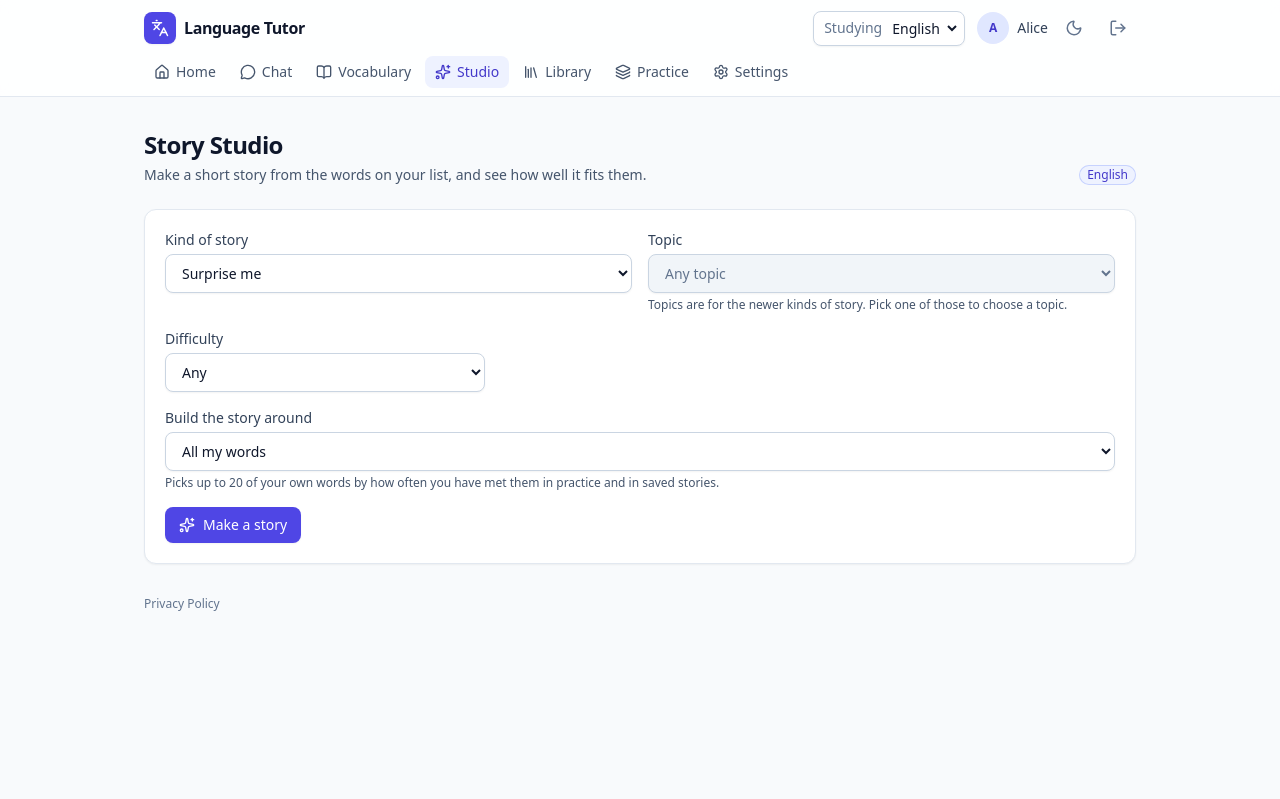
the story focus in Story Studio › sends the chosen focus and says what the story was built around
Select "Words I have met least" in the dropdown labelled "Build the story around" at [640, 452], box [165,432,1115,471]
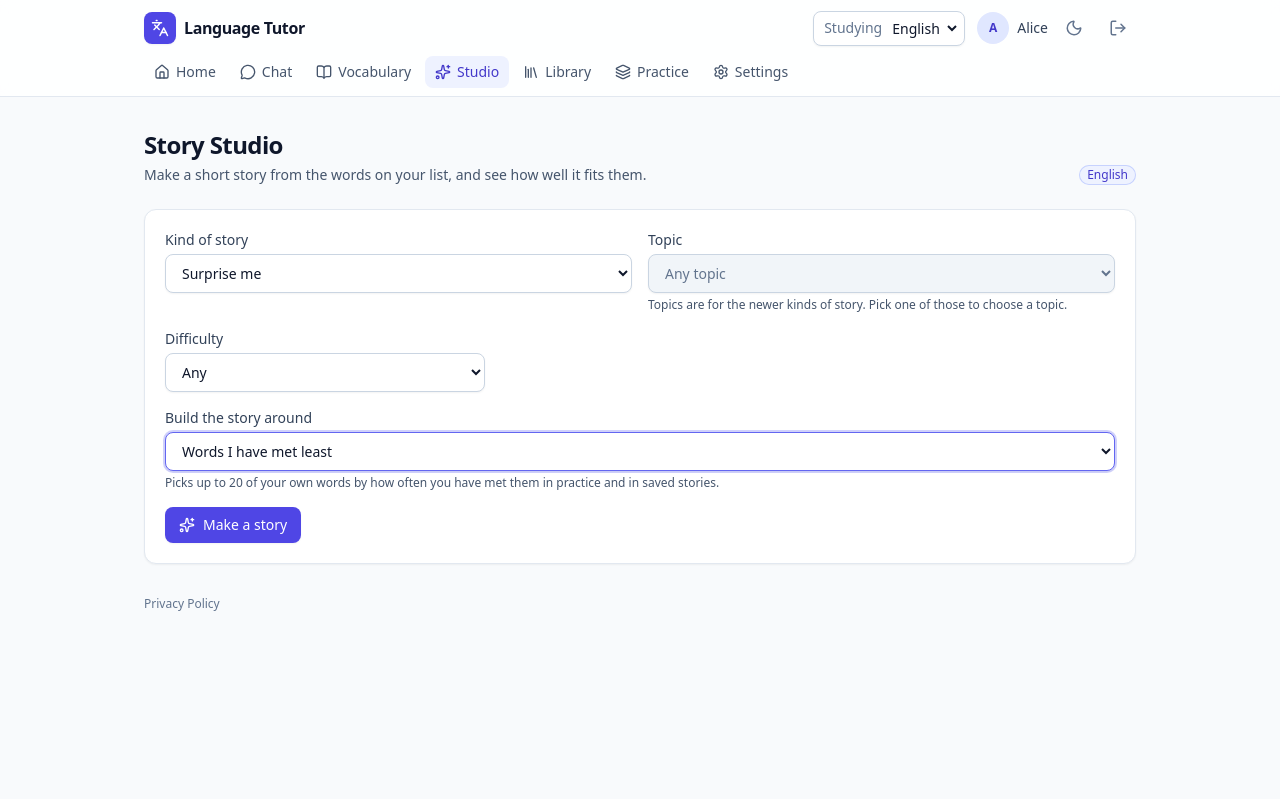
Click the button "Make a story" at [233, 525], box [165,507,301,543]
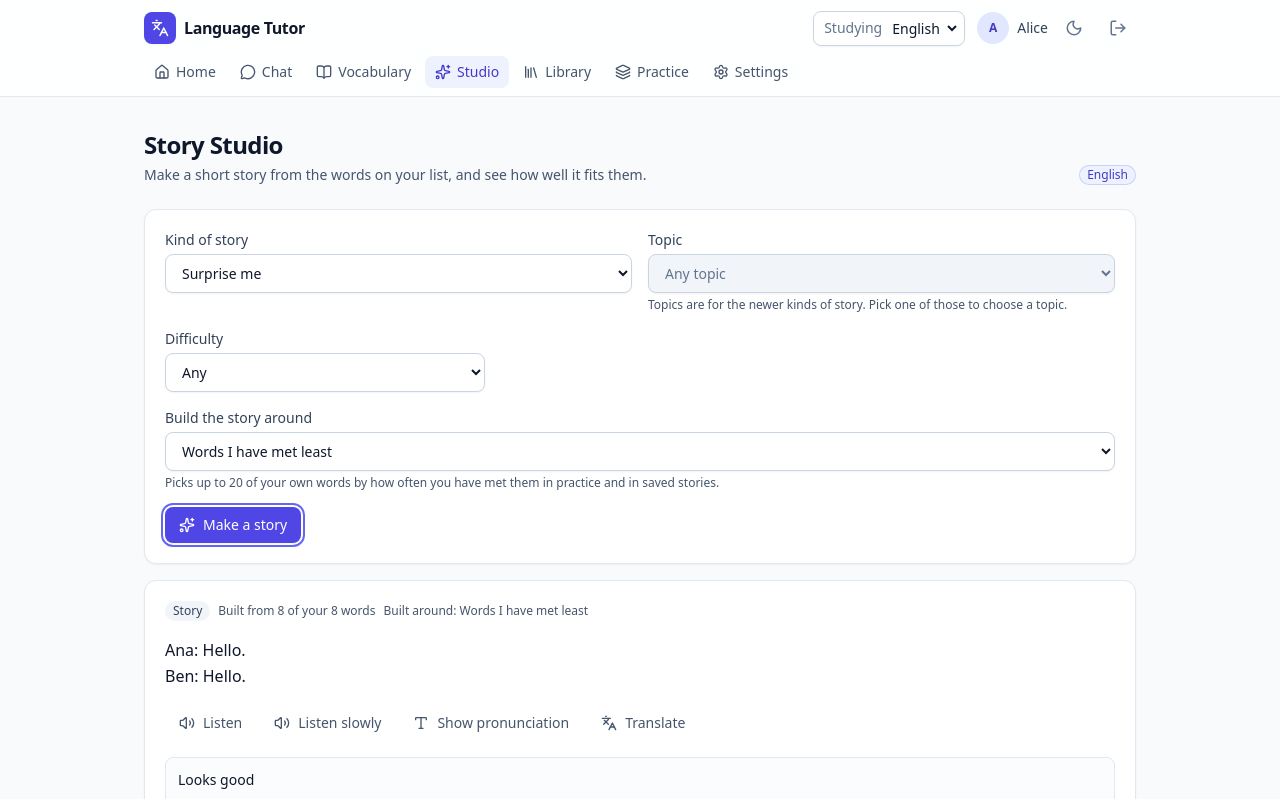
Expected: the text "Built around: Words I have met least" is shown, [384,603,588,619]
